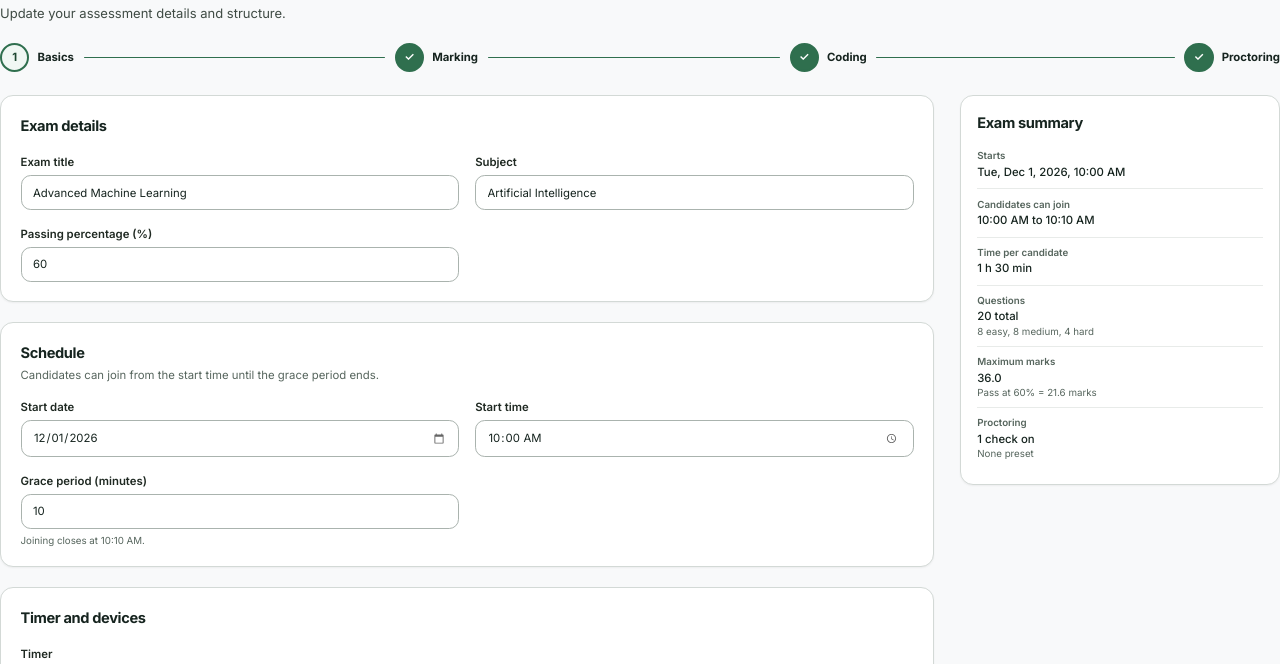
Test: Screen Capture Protection & Browser Restrictions Verification › 3. Host Portal Screen Capture & Browser Restriction Settings › renders Screen Capture Protection and Browser Restrictions sections in CreateExam step 4
expect the field showing "Advanced Machine Learning" is shown: met, box [20,175,459,210]
# Navigate to Step 4: Proctoring
Click the button "✓ Proctoring": (1232, 57) [1184,43,1279,72]
(page scrolled)
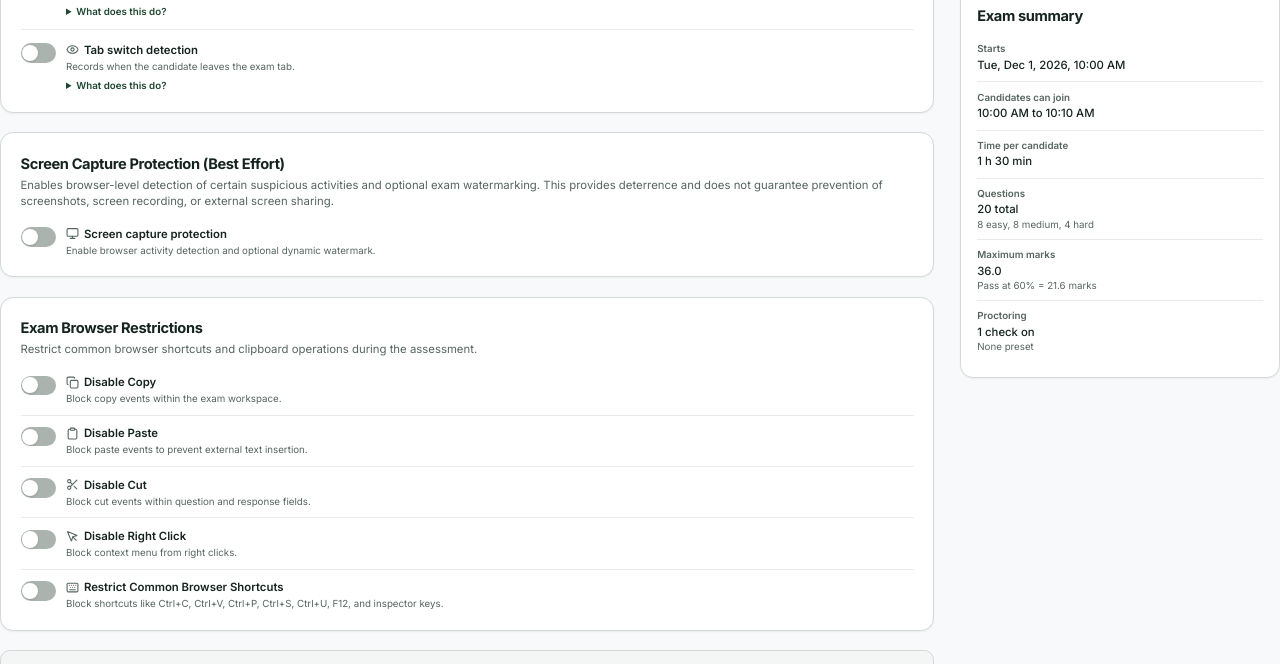
expect the heading "Screen Capture Protection (Best Effort)" is shown: met, box [20,154,285,172]
expect the text "Enables browser-level detection of certain suspicious activities" is shown: met, box [20,178,883,208]
expect the checkbox labelled "Screen capture protection" is shown: met, box [20,227,376,256]
